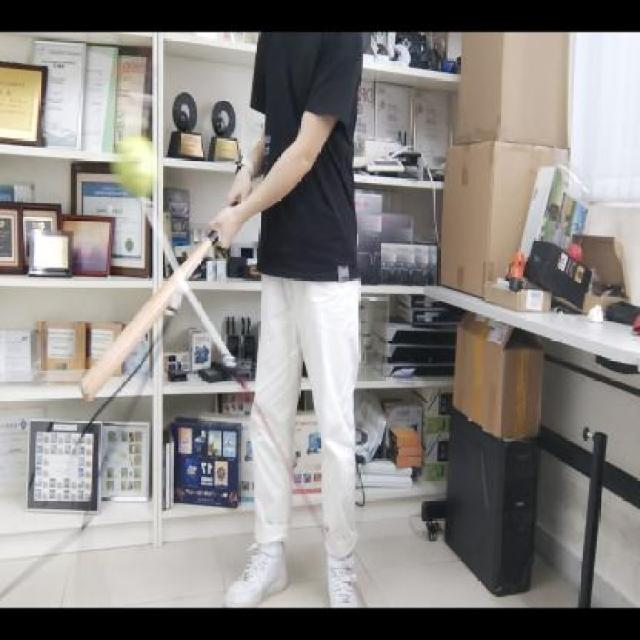baseball: (111, 132, 157, 200)
